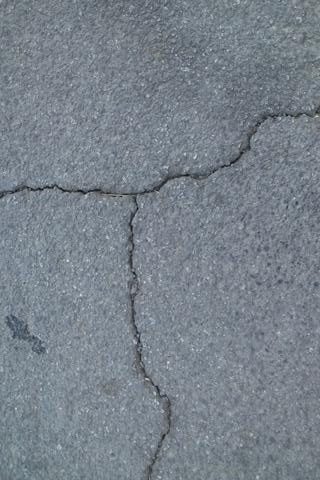A: (1, 91, 320, 201), (125, 201, 176, 479)
